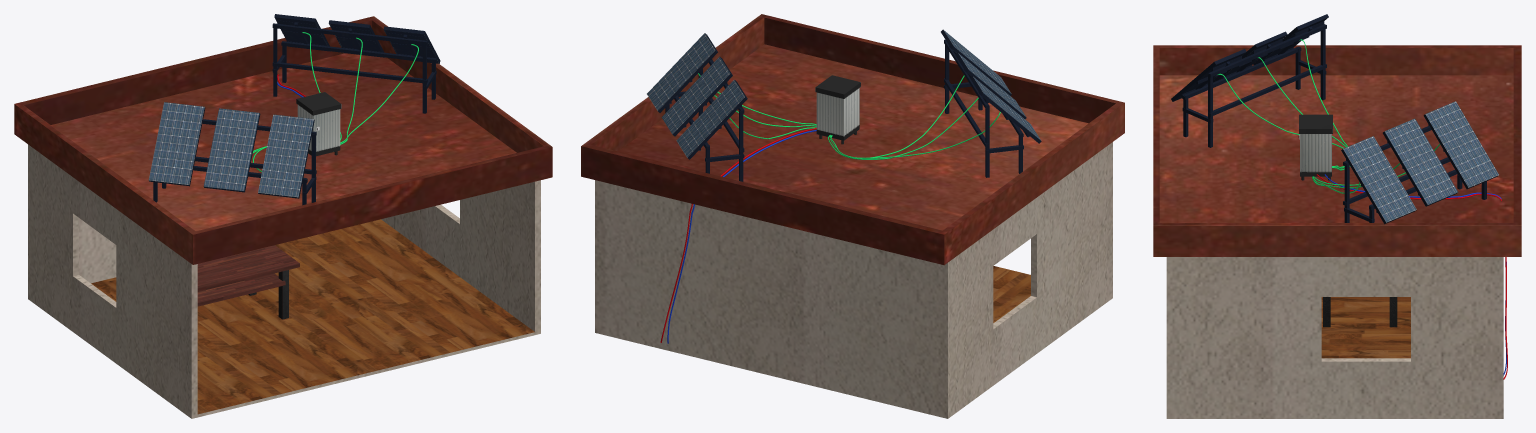
File: house and solar pannels.fbx
3 views of the same model, side by side, from view 1: azimuth 30°, elevation 25°; view 2: azimuth 150°, elevation 25°; view 3: azimuth 270°, elevation 25° (orthographic). The views are drawn at different scales.
Parts seen in each view (by area): view 1: house, house.001, table, solar pannel stand 2, solar pannel 1, solar pannel 3, solar pannel 2, inverter, solar pannel stand 1, solar pannel 5, solar pannel 6, solar pannel 4 (+1 smaller); view 2: house, inverter, wires, solar pannel 5, solar pannel 6, solar pannel 4, solar pannel stand 1, house.001, solar pannel stand 2, solar pannel 3, solar pannel 2, solar pannel 1; view 3: house, house.001, solar pannel stand 1, solar pannel 6, solar pannel 5, solar pannel 4, inverter, wires, solar pannel stand 2, solar pannel 1, solar pannel 3, solar pannel 2 (+1 smaller).
Boxes of the visible parts, bbox=[...] form: house: bbox=[14, 16, 552, 418]; house.001: bbox=[91, 219, 534, 414]; table: bbox=[197, 245, 299, 319]; solar pannel stand 2: bbox=[272, 23, 436, 113]; solar pannel 1: bbox=[258, 114, 314, 198]; solar pannel 3: bbox=[148, 102, 205, 186]; solar pannel 2: bbox=[203, 108, 260, 192]; inverter: bbox=[296, 92, 341, 156]; solar pannel stand 1: bbox=[153, 119, 316, 205]; solar pannel 5: bbox=[328, 20, 384, 57]; solar pannel 6: bbox=[274, 14, 330, 51]; solar pannel 4: bbox=[383, 26, 440, 63]; house: bbox=[581, 14, 1124, 418]; inverter: bbox=[815, 75, 860, 144]; wires: bbox=[660, 73, 1000, 343]; solar pannel 5: bbox=[661, 56, 732, 136]; solar pannel 6: bbox=[676, 79, 747, 159]; solar pannel 4: bbox=[647, 33, 717, 112]; solar pannel stand 1: bbox=[944, 39, 1023, 177]; house.001: bbox=[993, 266, 1030, 322]; solar pannel stand 2: bbox=[665, 60, 744, 181]; solar pannel 3: bbox=[970, 76, 1041, 143]; solar pannel 2: bbox=[955, 52, 1026, 119]; solar pannel 1: bbox=[941, 29, 1011, 95]; house: bbox=[1153, 45, 1521, 418]; house.001: bbox=[1321, 297, 1410, 358]; solar pannel stand 1: bbox=[1182, 24, 1326, 147]; solar pannel 6: bbox=[1423, 101, 1498, 189]; solar pannel 5: bbox=[1383, 118, 1458, 206]; solar pannel 4: bbox=[1341, 136, 1416, 224]; inverter: bbox=[1298, 114, 1332, 180]; wires: bbox=[1217, 39, 1507, 379]; solar pannel stand 2: bbox=[1343, 126, 1486, 222]; solar pannel 1: bbox=[1171, 49, 1246, 101]; solar pannel 3: bbox=[1253, 14, 1328, 64]; solar pannel 2: bbox=[1213, 31, 1287, 82].
Bounding box in the file's own units: 1961 × 1287 × 1685.
